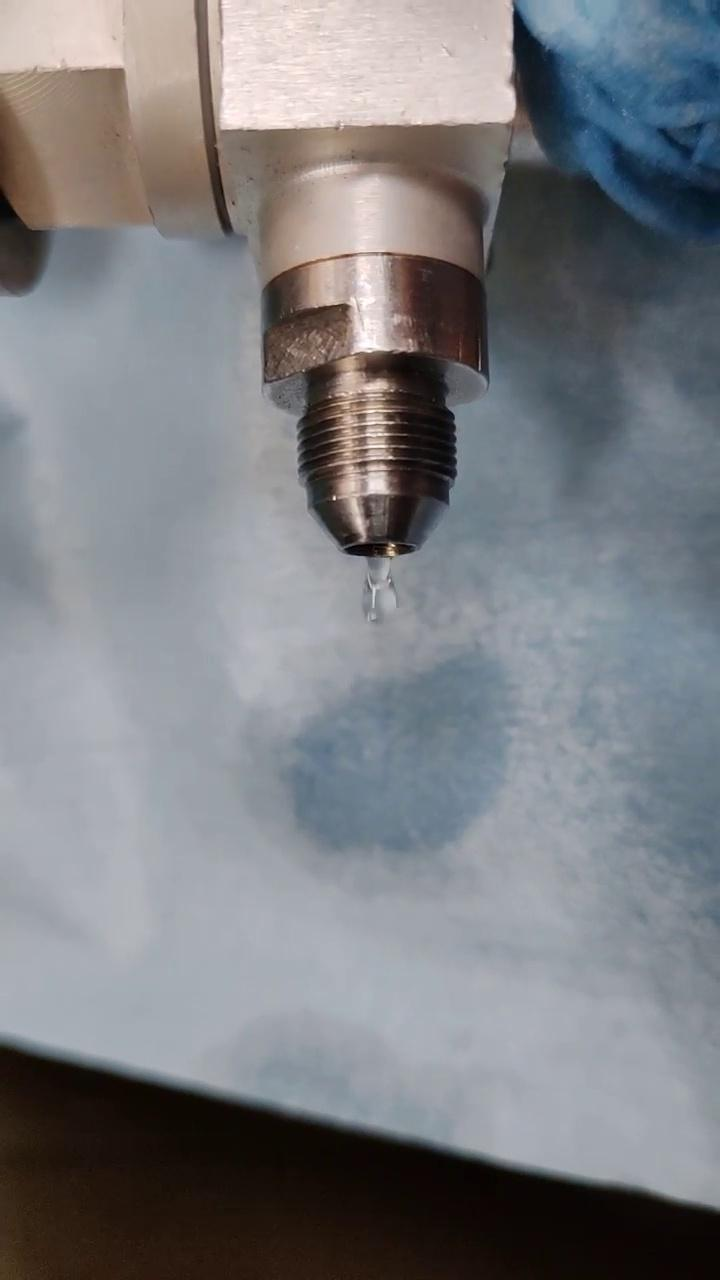water drop: (361, 544, 399, 625)
